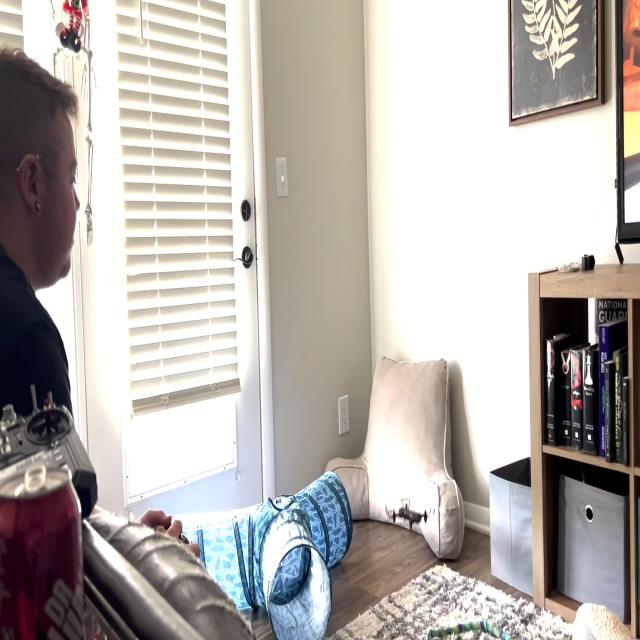drone: (382, 482, 438, 538)
